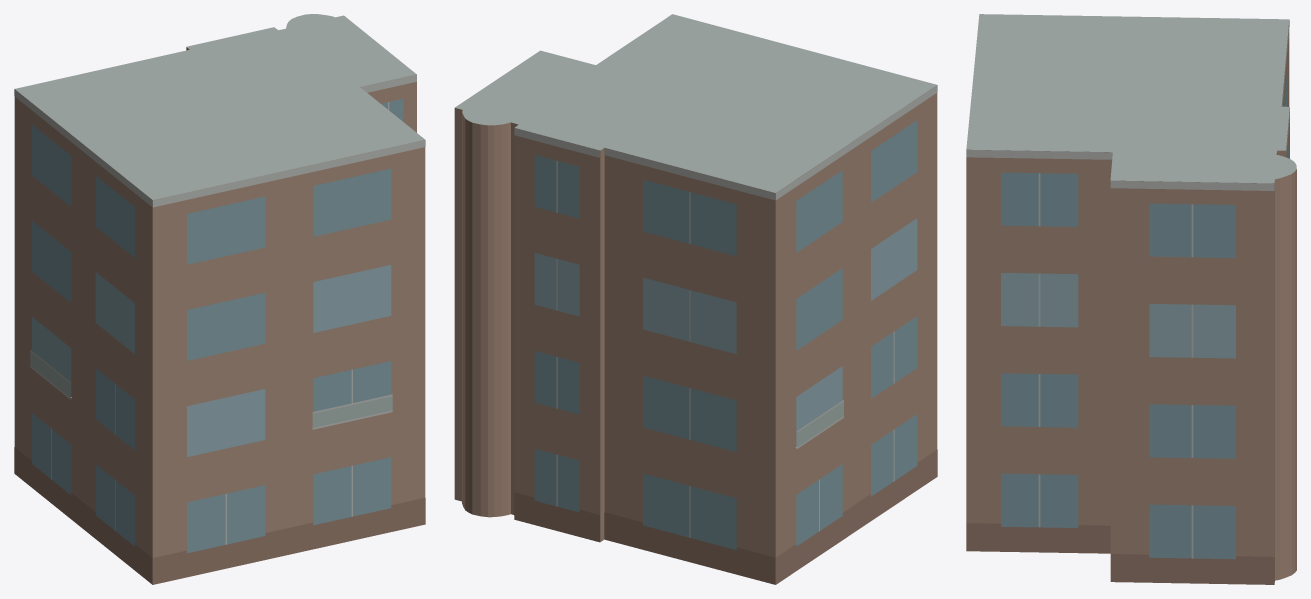
Rendered from survey-upis-32700227.glb.
The picture shows the model from 3 angles, left to right: view 1: azimuth 30°, elevation 25°; view 2: azimuth 150°, elevation 25°; view 3: azimuth 270°, elevation 25°; orthographic projection. The views are drawn at different scales.
Parts seen in each view (by area): view 1: survey-upis-32700227.tmp; view 2: survey-upis-32700227.tmp; view 3: survey-upis-32700227.tmp.
Part boxes in pixels (x1,y1,x2,y2): survey-upis-32700227.tmp: [14, 14, 425, 584]; survey-upis-32700227.tmp: [454, 14, 937, 584]; survey-upis-32700227.tmp: [966, 14, 1296, 584].
Bounding box in the file's own units: 11.59 × 12.8 × 9.56.
